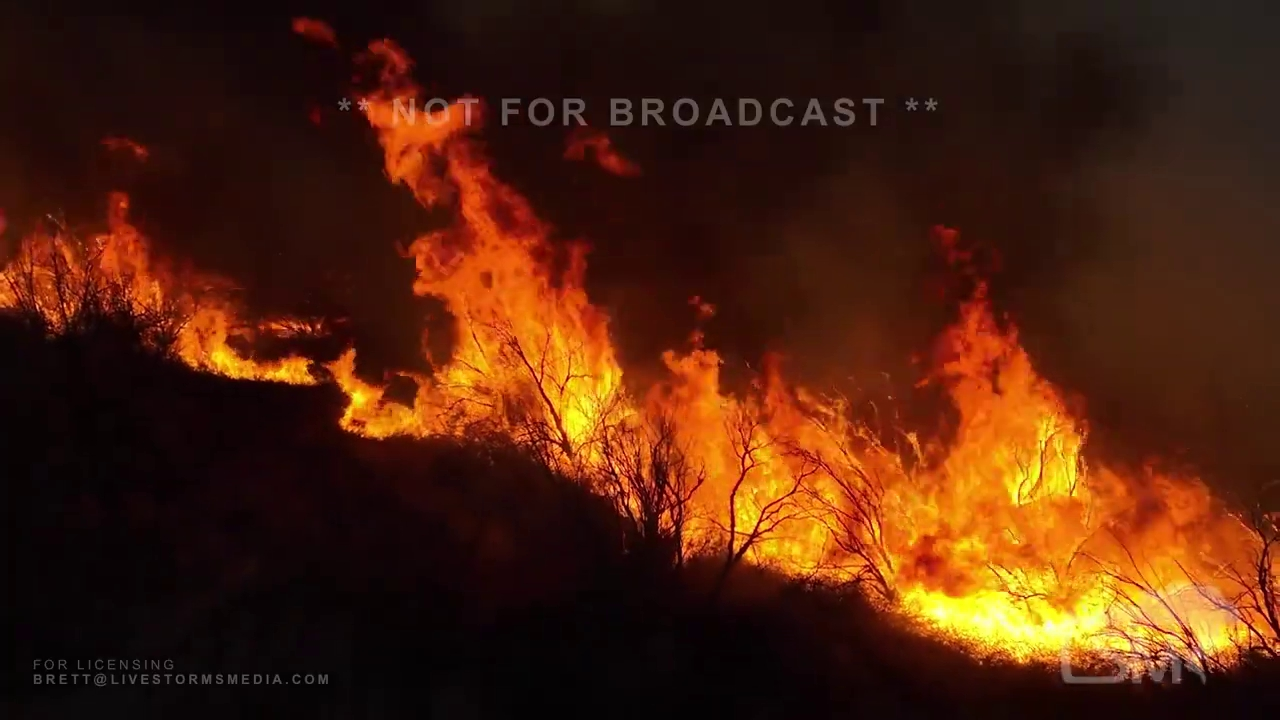forest_fire: (326, 41, 1275, 666), (0, 194, 311, 383), (93, 196, 315, 383), (0, 274, 15, 308)
